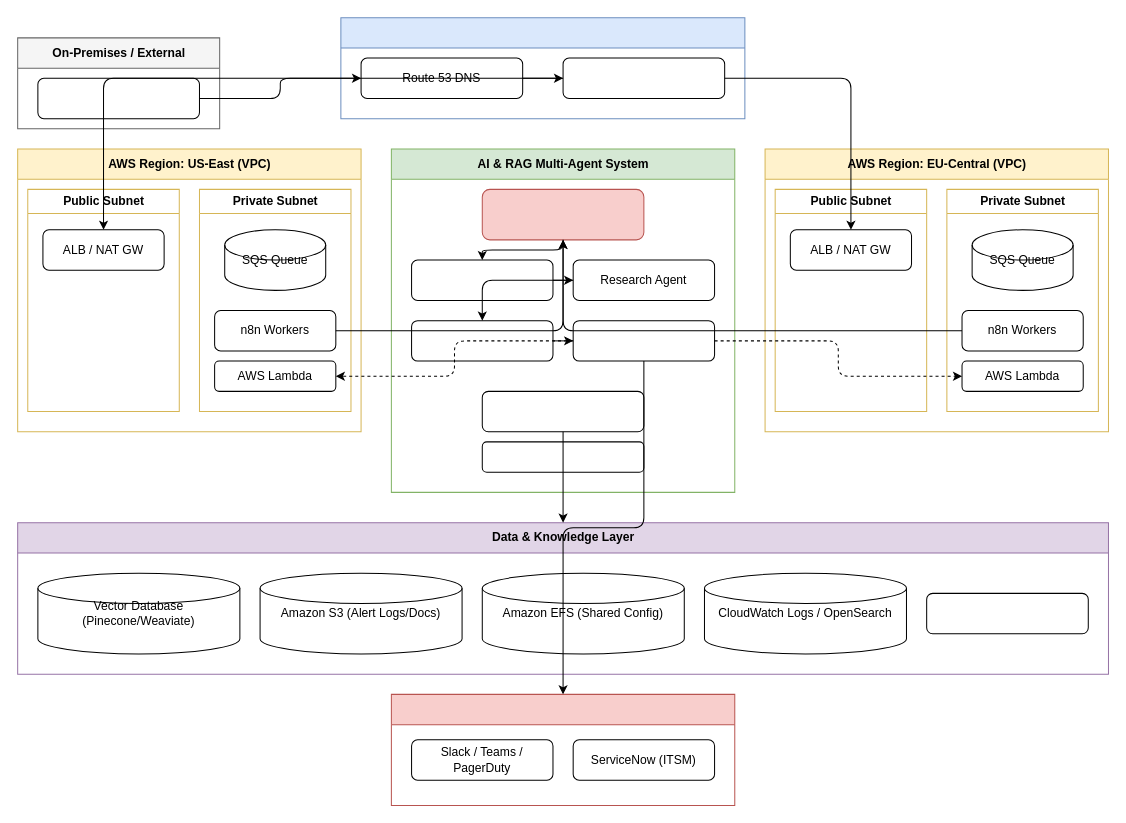
Image size: 1126x823. Some labels were removed from this diagram. Each missing label, with the box of its shape:
Alert Coordinator Agent: (411, 259, 553, 300)
Analysis Agent: (411, 320, 553, 361)
AWS Global Accelerator: (562, 57, 725, 98)
AWS IAM (Security): (926, 592, 1088, 634)
Embeddings Layer: (481, 441, 644, 472)
Global Traffic Layer: (340, 17, 745, 119)
Monitoring Alerts (Email): (37, 77, 199, 119)
n8n Core Engine: (481, 188, 644, 240)
Notifications & ITSM: (390, 693, 735, 805)
RAG Retrieval Engine: (481, 390, 644, 432)
Remediation Agent: (572, 320, 715, 361)
